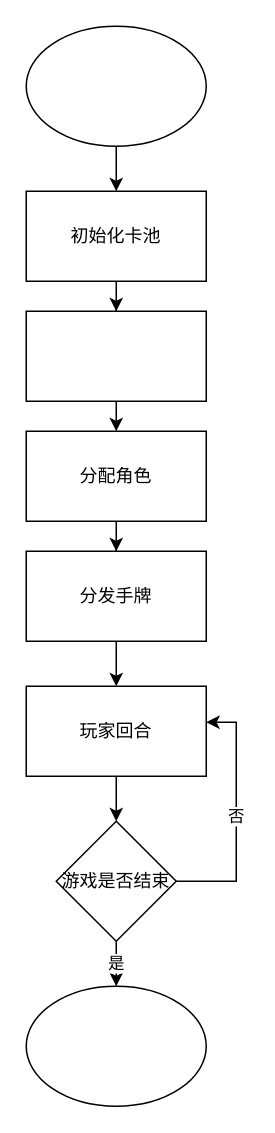
The diagram is 275 pixels wide and 1133 high, and some of its shapes have lost their labels. The shapes that lost their labels are listed below. From the top down, each one's box as (x1, y1, x2, y2) in pixels, then its label:
(25, 25, 206, 146): 游戏开始
(25, 310, 206, 401): 洗牌
(25, 985, 206, 1106): 游戏结束
